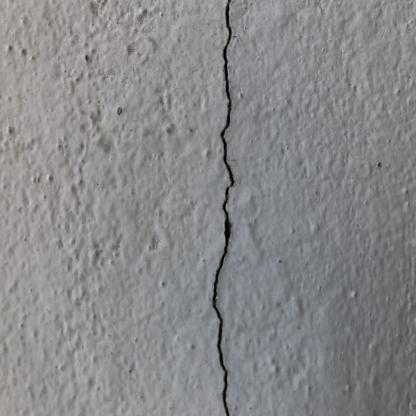crack: (211, 1, 235, 415)
